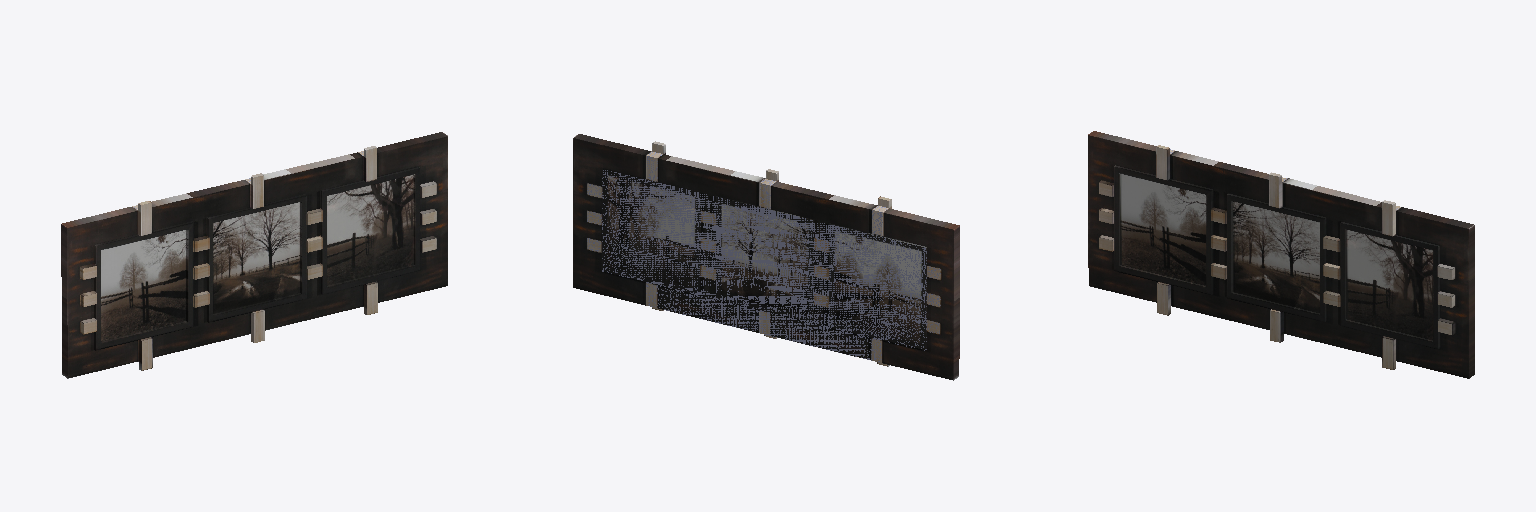
3 renders of one model, left to right at view 1: azimuth 30°, elevation 25°; view 2: azimuth 150°, elevation 25°; view 3: azimuth 330°, elevation 25°, orthographic.
Parts seen in each view (by area): view 1: SketchUp.001_ID324, SketchUp.002_ID332, SketchUp_ID316, group_2.001_ID212, group_2.007_ID260, group_2.006_ID252, group_2.004_ID236, group_1_ID155, group_2.005_ID244, group_2.002_ID220, group_1.001_ID163, group_1.002_ID171; view 2: group_2.010_ID286, group_2.001_ID212, group_2.007_ID260, group_2.004_ID236, group_2.006_ID252; view 3: SketchUp.001_ID324, SketchUp_ID316, SketchUp.002_ID332, group_2.007_ID260, group_2.001_ID212, group_2.006_ID252, group_2.004_ID236, group_2.005_ID244, group_2.002_ID220, group_1_ID155, group_1.001_ID163, group_1.002_ID171.
Part boxes in pixels (left/top/right/bottom): SketchUp.001_ID324: left=213, top=202, right=299, bottom=313; SketchUp.002_ID332: left=327, top=175, right=413, bottom=285; SketchUp_ID316: left=101, top=230, right=185, bottom=341; group_2.001_ID212: left=61, top=207, right=138, bottom=378; group_2.007_ID260: left=377, top=132, right=447, bottom=302; group_2.006_ID252: left=263, top=152, right=363, bottom=211; group_2.004_ID236: left=152, top=180, right=250, bottom=238; group_1_ID155: left=94, top=221, right=193, bottom=350; group_2.005_ID244: left=264, top=277, right=363, bottom=330; group_2.002_ID220: left=152, top=305, right=250, bottom=357; group_1.001_ID163: left=321, top=167, right=419, bottom=294; group_1.002_ID171: left=207, top=194, right=306, bottom=322; group_2.010_ID286: left=587, top=152, right=940, bottom=362; group_2.001_ID212: left=882, top=208, right=959, bottom=380; group_2.007_ID260: left=573, top=134, right=651, bottom=305; group_2.004_ID236: left=771, top=182, right=877, bottom=240; group_2.006_ID252: left=658, top=154, right=765, bottom=211; SketchUp.001_ID324: left=1233, top=201, right=1319, bottom=312; SketchUp_ID316: left=1120, top=174, right=1205, bottom=285; SketchUp.002_ID332: left=1346, top=230, right=1432, bottom=339; group_2.007_ID260: left=1396, top=207, right=1474, bottom=378; group_2.001_ID212: left=1088, top=131, right=1157, bottom=302; group_2.006_ID252: left=1282, top=178, right=1381, bottom=238; group_2.004_ID236: left=1170, top=151, right=1268, bottom=210; group_2.005_ID244: left=1284, top=304, right=1382, bottom=357; group_2.002_ID220: left=1171, top=277, right=1270, bottom=329; group_1_ID155: left=1114, top=165, right=1212, bottom=294; group_1.001_ID163: left=1340, top=222, right=1439, bottom=348; group_1.002_ID171: left=1227, top=194, right=1325, bottom=321.
Size of the model in its own units: 15.33 by 6.38 by 0.5861.
2 materials, 1 textured.